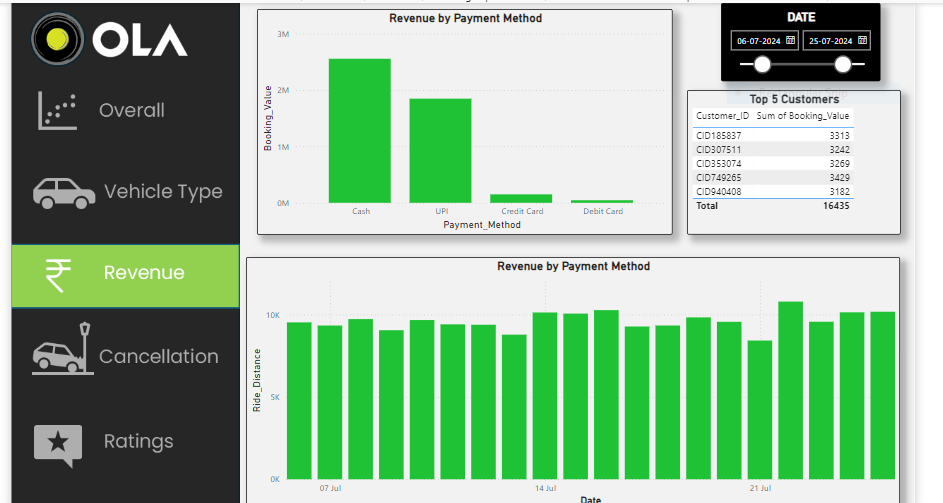

The page's visual inventory and layout, read from the dashboard file:
{"tool":"powerbi","page":{"name":"Revenue","canvas":[1280,720],"ordinal":2},"visuals":[{"type":"actionButton","box":[9.9,209.8,323.1,87.9],"z":0},{"type":"actionButton","box":[0,452.1,323.1,87.9],"z":1000},{"type":"actionButton","box":[4.3,588.2,318.9,87.9],"z":2000},{"type":"actionButton","box":[1.4,107.7,318.9,87.9],"z":3000},{"type":"columnChart","title":"Revenue by Payment Method","fields":{"Y":["Sum(July.Booking_Value)"],"Category":["July.Payment_Method"]},"box":[349,8.5,589.4,319.7],"z":4000},{"type":"columnChart","title":"Revenue by Payment Method","fields":{"Y":["Sum(July.Ride_Distance)"],"Category":["July.Date"]},"box":[333.1,360,926.9,360],"z":5000},{"type":"slicer","title":"DATE","fields":{"Values":["July.Date"]},"box":[1006.7,0,225.7,111],"z":5002},{"type":"tableEx","title":"Top 5 Customers","fields":{"Values":["July.Customer_ID","Sum(July.Booking_Value)"]},"box":[957.9,123.2,302.6,205],"z":5003}]}

Visuals, with their boxes on the page's 1280x720 design canvas (x1, y1, x2, y2). These are canvas units, not pixel positions in the 943x503 screenshot, which may show the page scaled, cropped or inside an application window:
actionButton: (10, 210, 333, 298)
actionButton: (0, 452, 323, 540)
actionButton: (4, 588, 323, 676)
actionButton: (1, 108, 320, 196)
"Revenue by Payment Method" columnChart: (349, 8, 938, 328)
"Revenue by Payment Method" columnChart: (333, 360, 1260, 720)
"DATE" slicer: (1007, 0, 1232, 111)
"Top 5 Customers" tableEx: (958, 123, 1260, 328)
